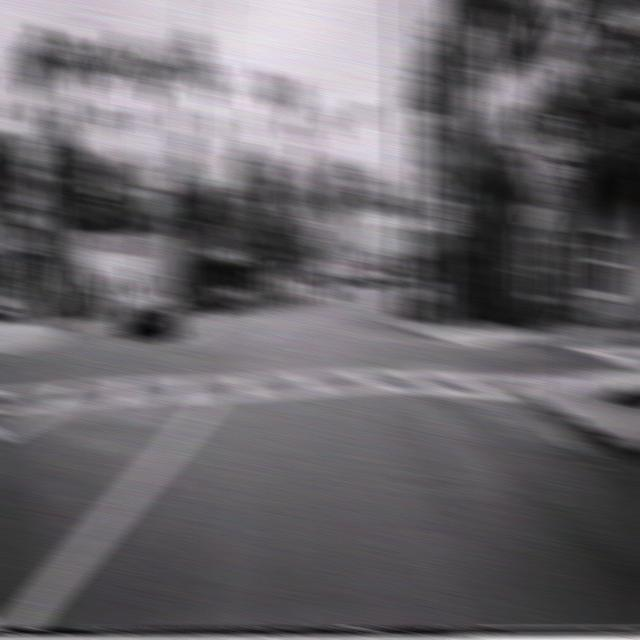pedestrianCrossing: (518, 136, 560, 204)
speedLimit25: (433, 197, 459, 236)
